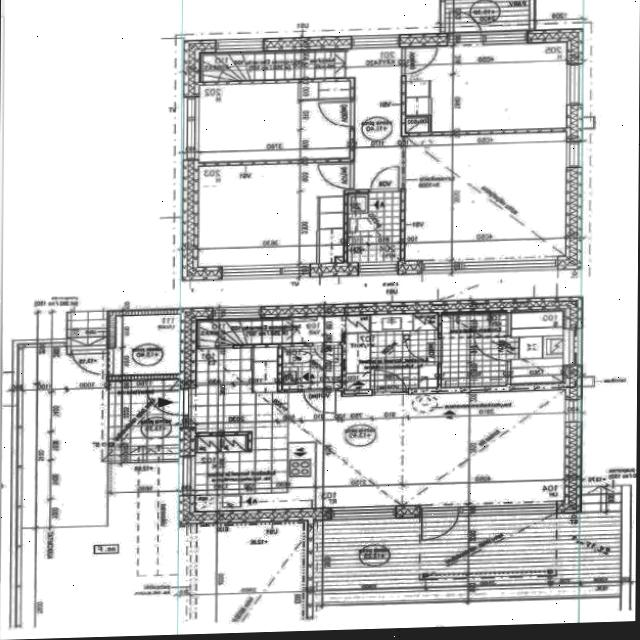room: (195, 162, 351, 267), (403, 42, 568, 133), (196, 81, 351, 162), (343, 313, 440, 390), (441, 311, 505, 388), (112, 314, 181, 376), (510, 311, 562, 384), (346, 192, 399, 263), (444, 0, 528, 33), (280, 345, 342, 389)
